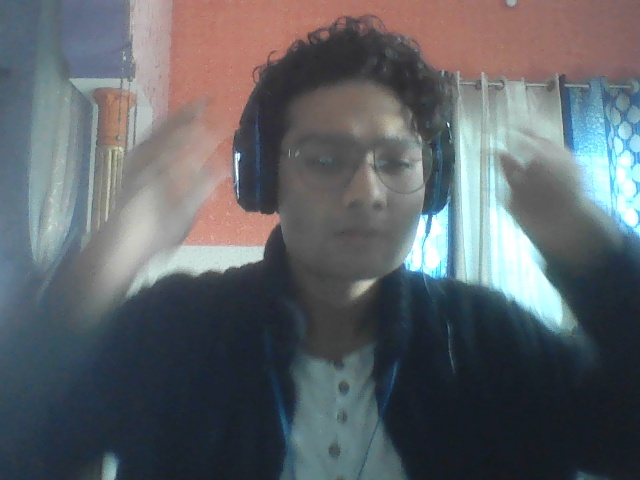real: (249, 26, 444, 303)
